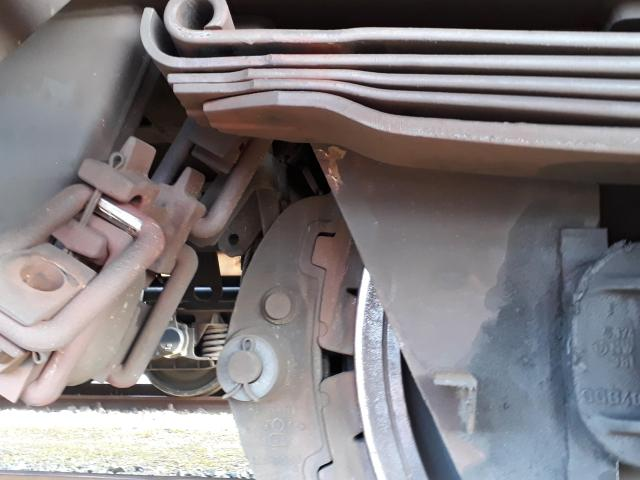blattfederww: (121, 8, 640, 162)
